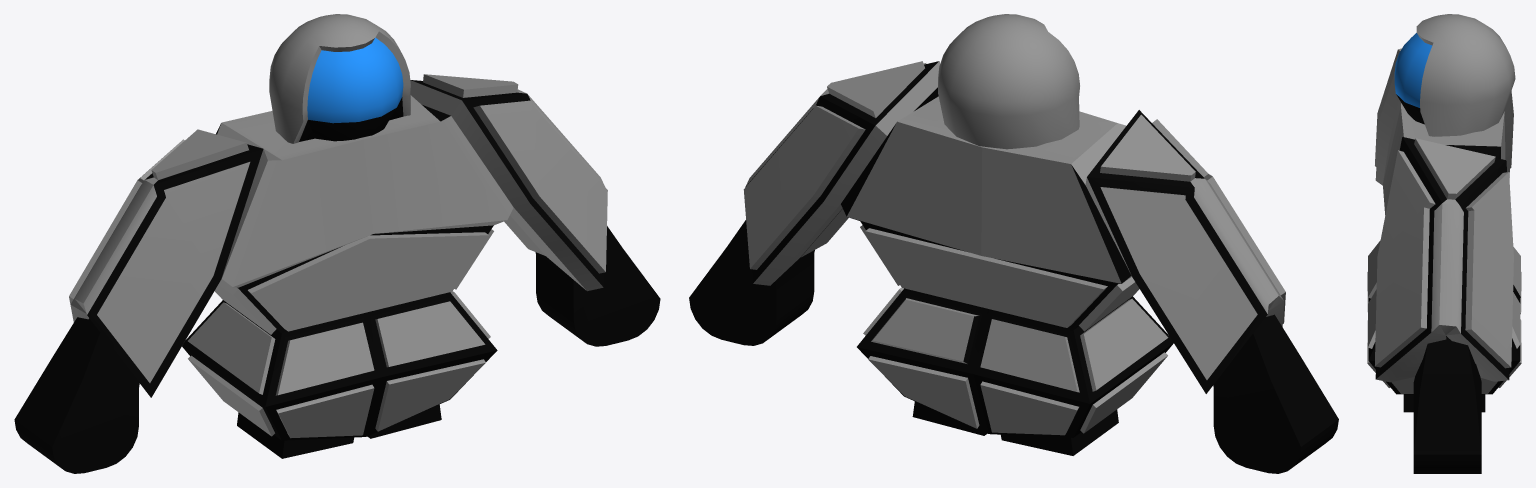
The model's file is upper_body_ver_1.glb.
3 views of the same model, side by side, from view 1: azimuth 30°, elevation 25°; view 2: azimuth 150°, elevation 25°; view 3: azimuth 270°, elevation 25° (orthographic). The views are drawn at different scales.
Parts seen in each view (by area): view 1: Cube; view 2: Cube; view 3: Cube.
Boxes of the visible parts, <box> form: Cube: <box>14,14,660,473</box>; Cube: <box>689,14,1338,473</box>; Cube: <box>1367,14,1521,473</box>.
Size of the model in its own units: 4.2 by 2.64 by 1.03.
Materials: 3 (1 with a texture image).
